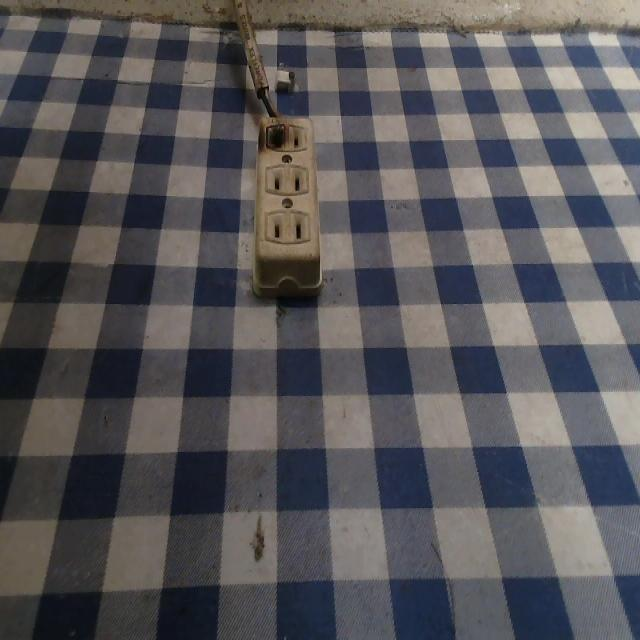-: (257, 112, 290, 160)
